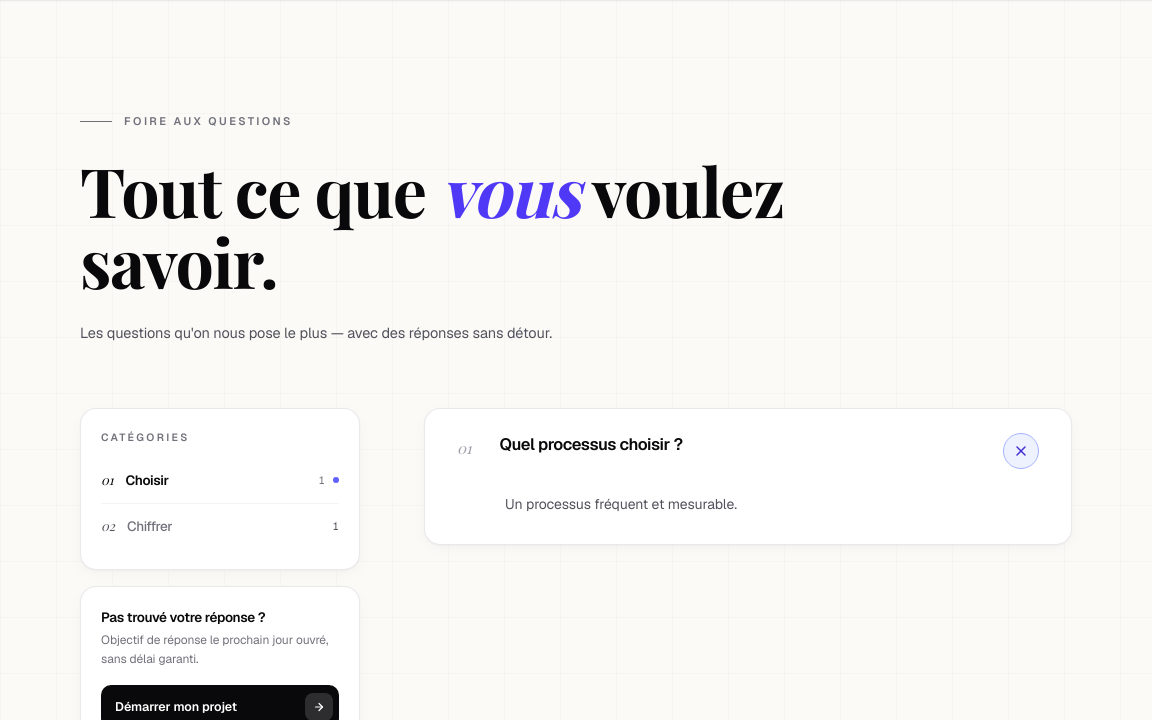
Test: GuidePremiumFaqCategorized accessibility › relies on one native button activation instead of toggling on keydown too
Press Enter in the button "01 Quel processus choisir ?", box left=441, top=409, right=1055, bottom=493
Click the button "01 Quel processus choisir ?".
click(591, 444)  # box left=441, top=409, right=1055, bottom=493
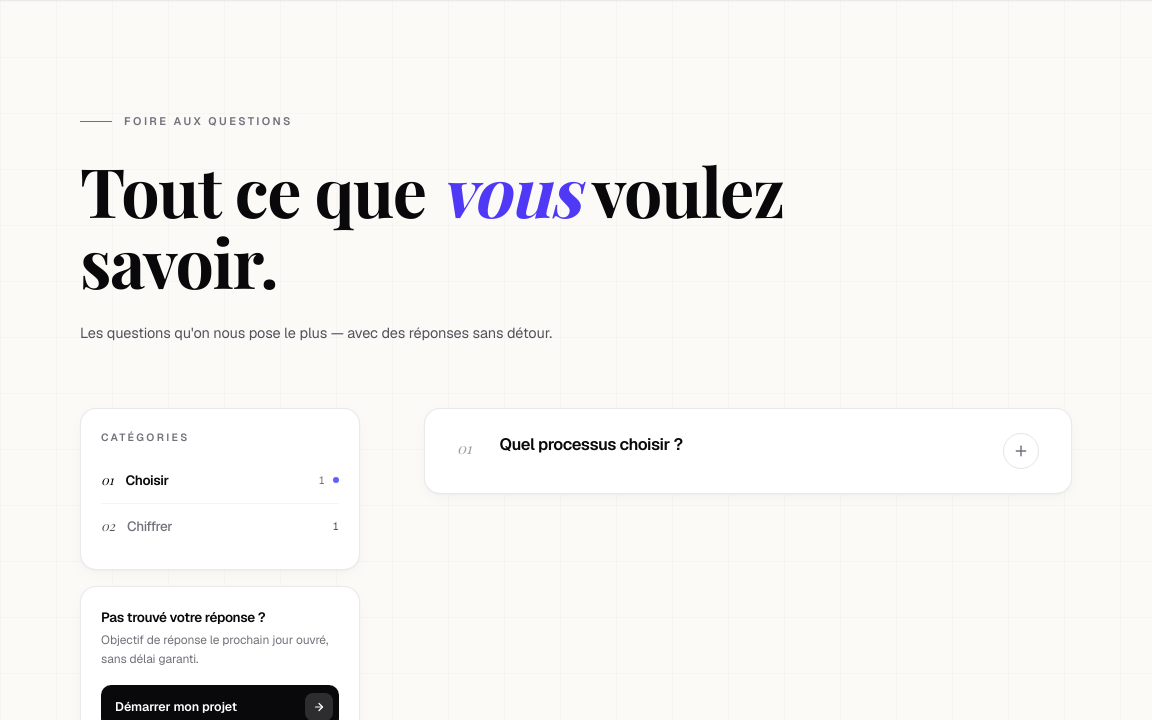
Expected: the button "01 Quel processus choisir ?" is collapsed
Press Space in the button "01 Quel processus choisir ?", box left=441, top=409, right=1055, bottom=493
Expected: the button "01 Quel processus choisir ?" is collapsed
Click the button "01 Quel processus choisir ?".
click(591, 444)  # box left=441, top=409, right=1055, bottom=493
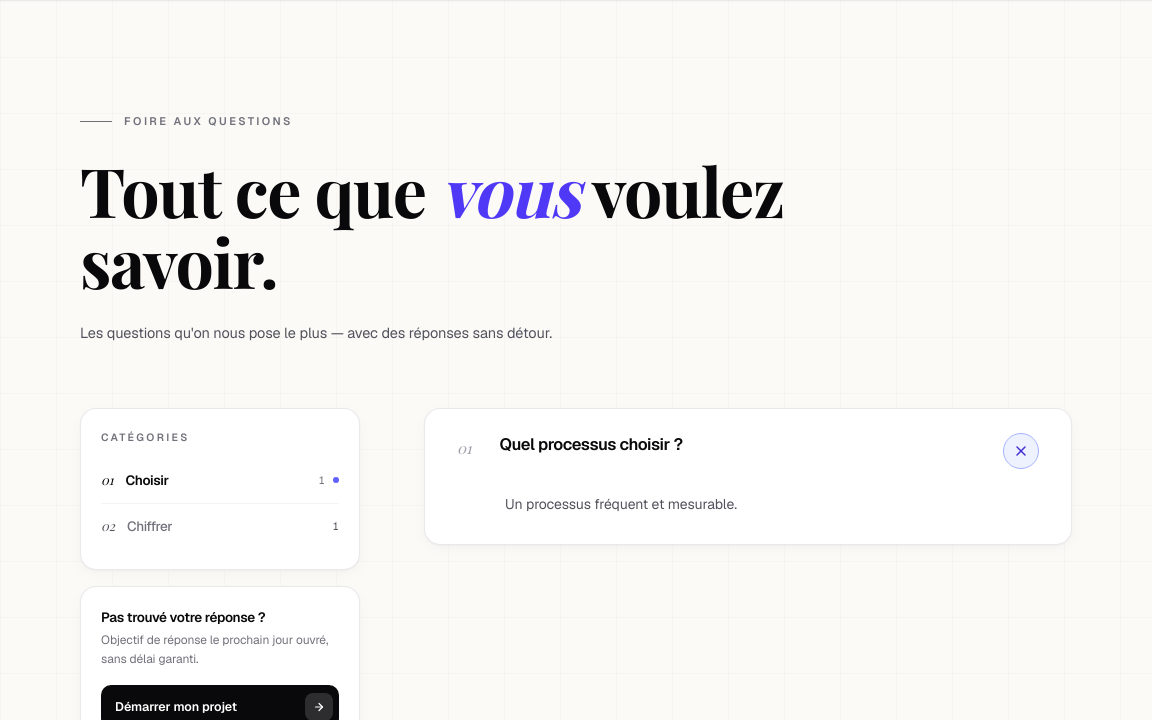
Expected: the button "01 Quel processus choisir ?" is expanded, left=441, top=409, right=1055, bottom=493
